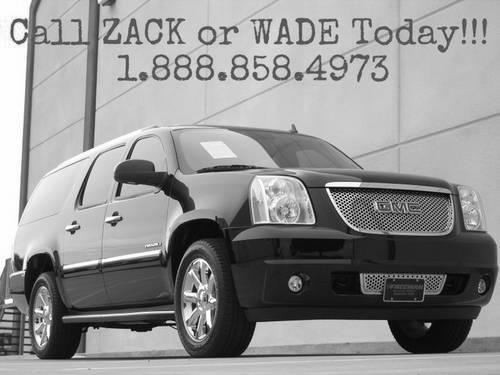car: (11, 123, 500, 358)
